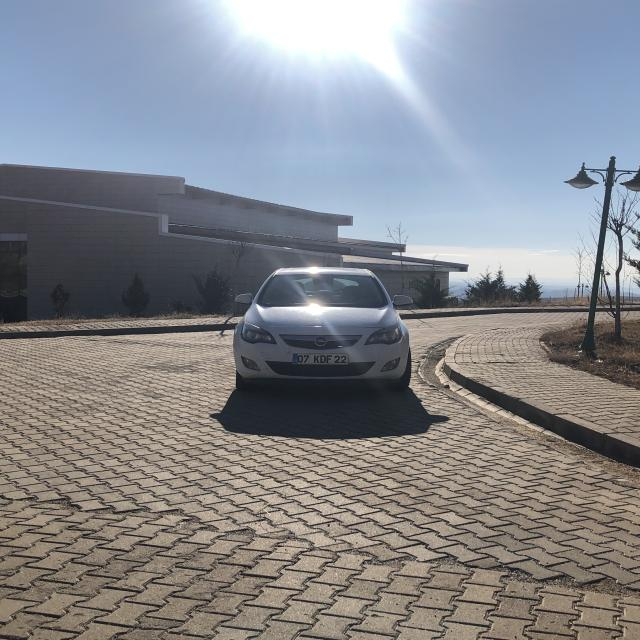license_plate: (293, 354, 349, 365)
